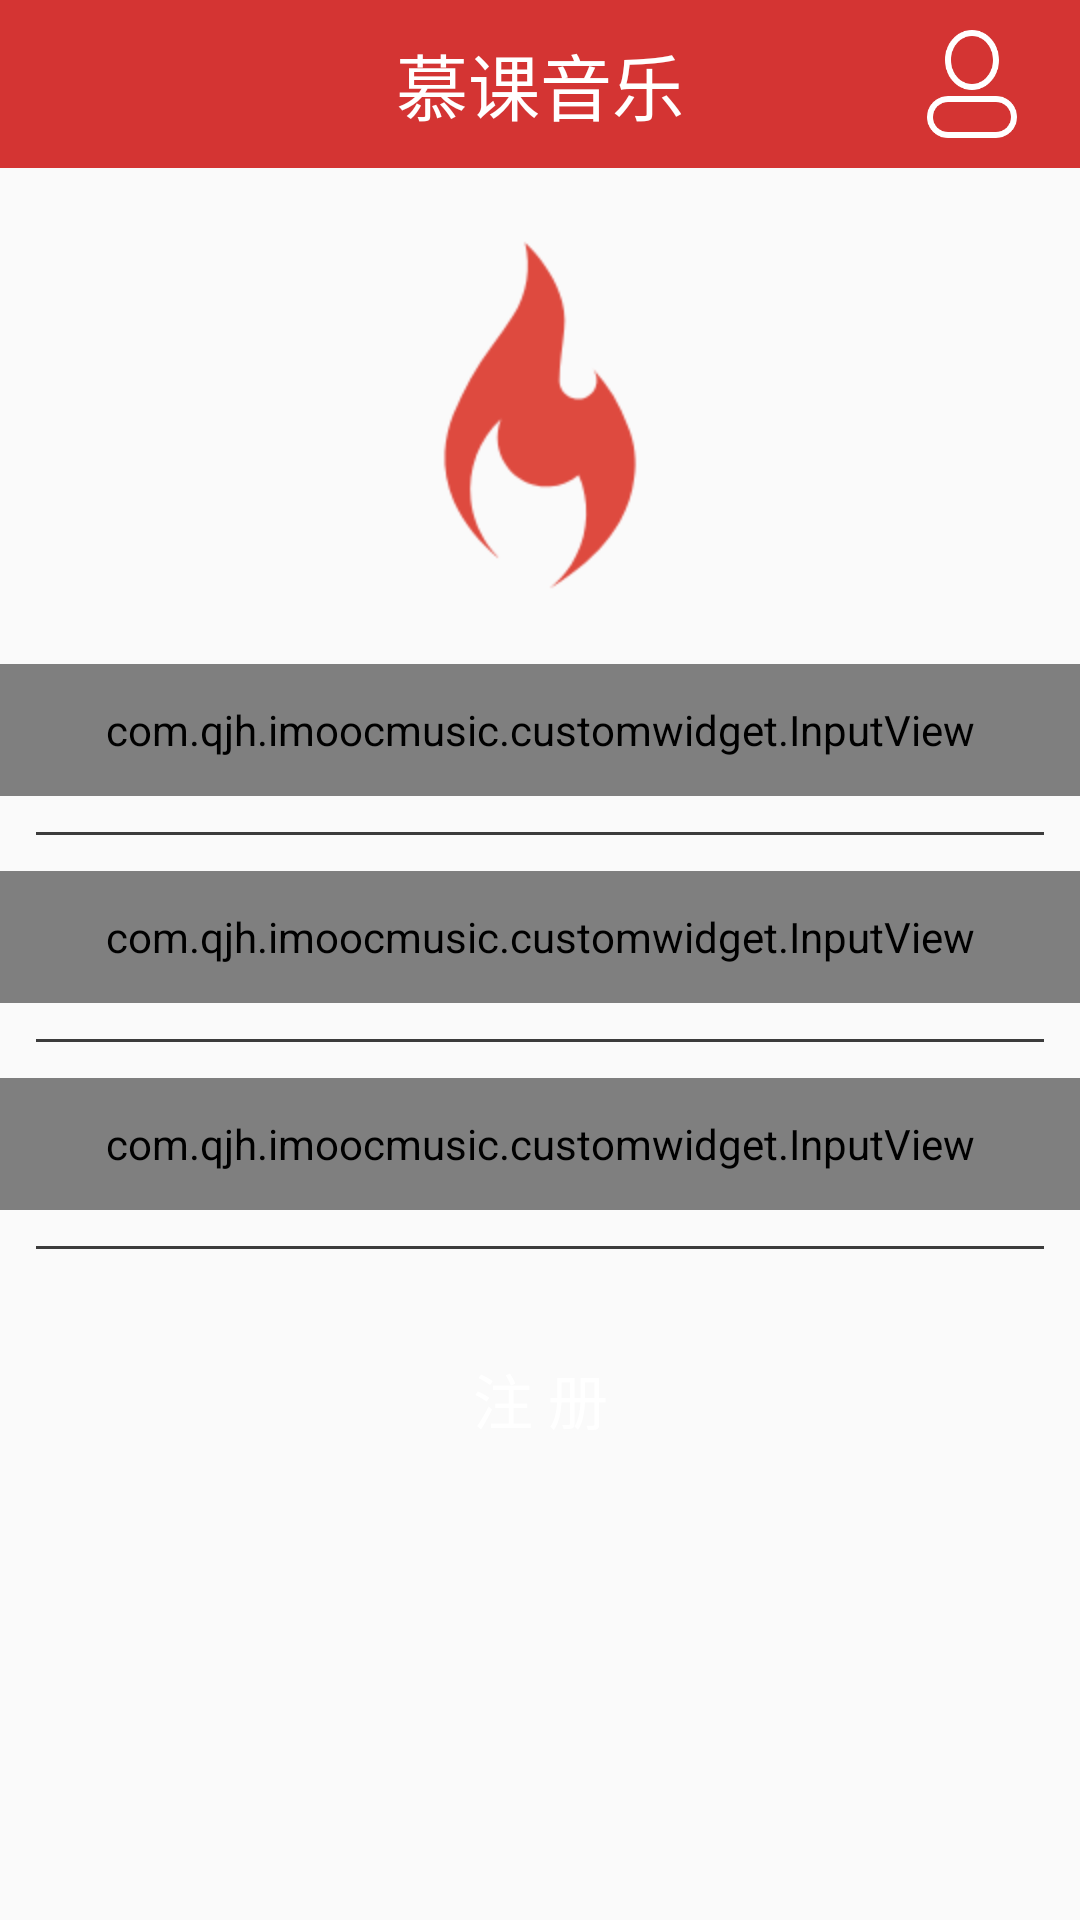

Icons on this 1080 x 1920 Android screen, each with its box as (x1, y1, x2, y2):
mine: (927, 30, 1017, 138)
